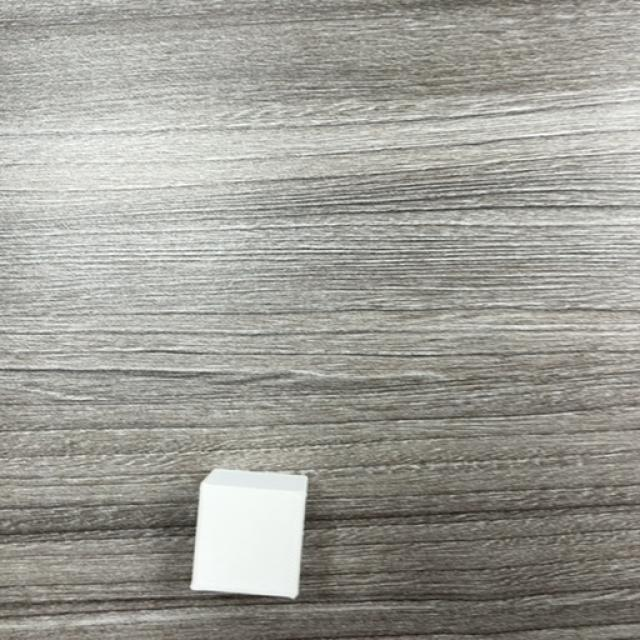Blanco: (190, 468, 310, 602)
